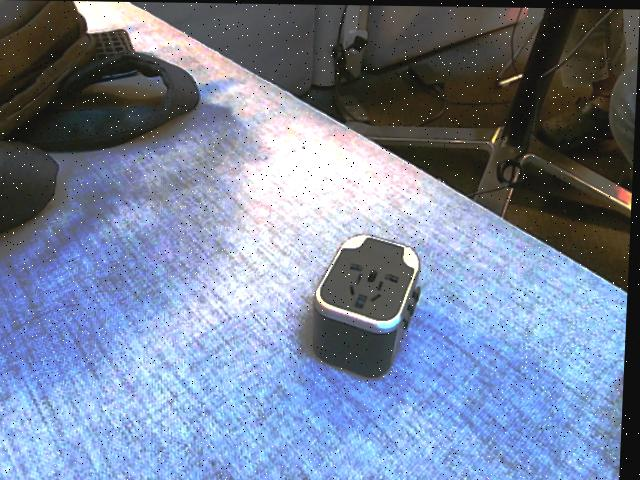adapter: (312, 230, 425, 377)
